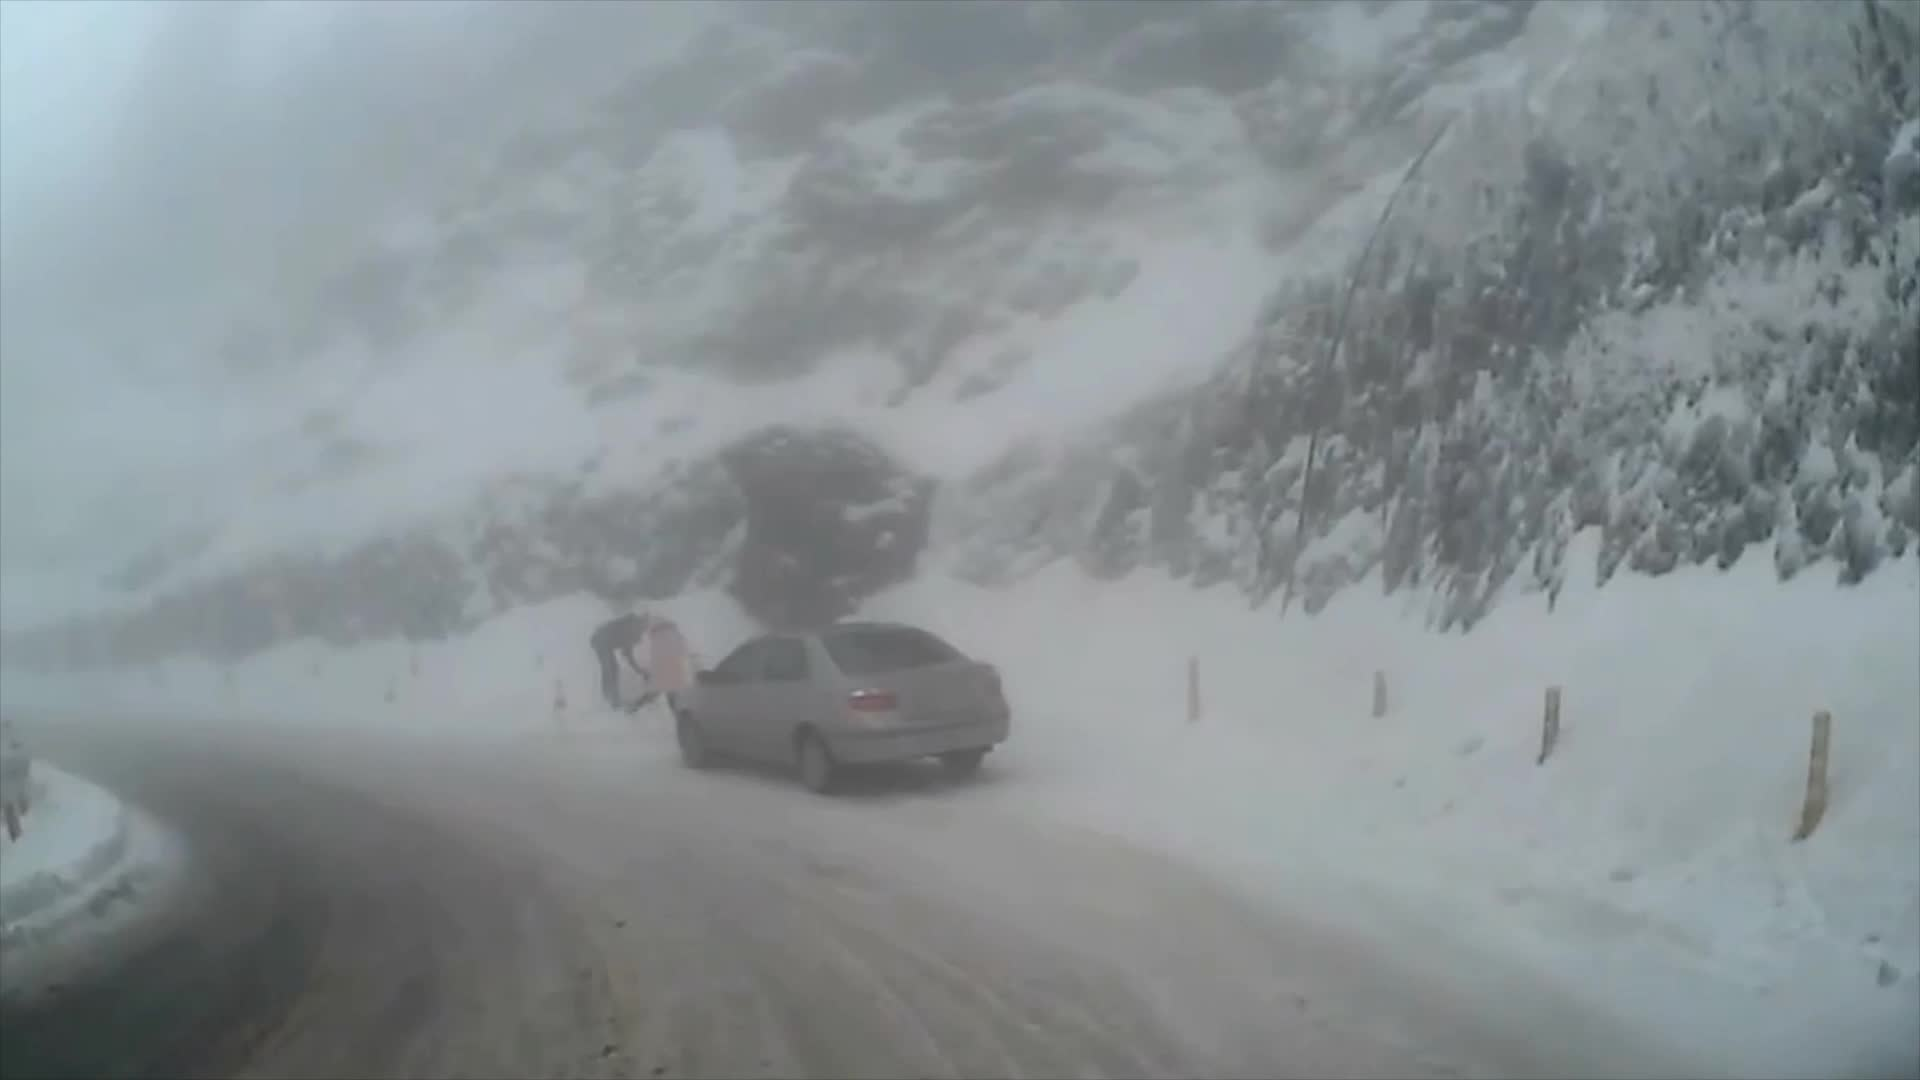pedestrian: (631, 607, 711, 733), (591, 609, 666, 708)
vehicle: (671, 621, 1010, 796)
